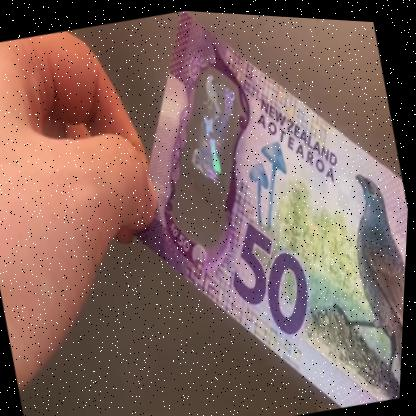50B: (164, 62, 268, 239)
